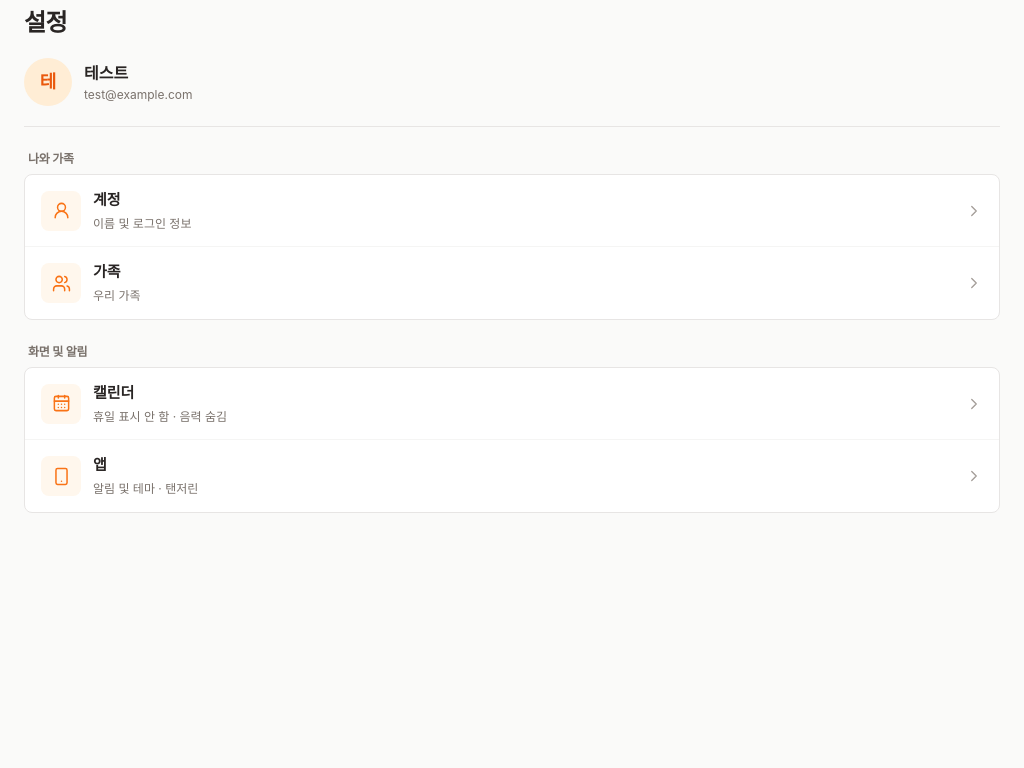
it: SettingsTab 앱 서브뷰 — 알림 › 권한이 denied일 때 차단 안내 메시지가 표시된다
This screenshot has width=1024, height=768.
Click the button "앱 알림 및 테마 · 탠저린" at [61, 476], box [25,440,999,512]
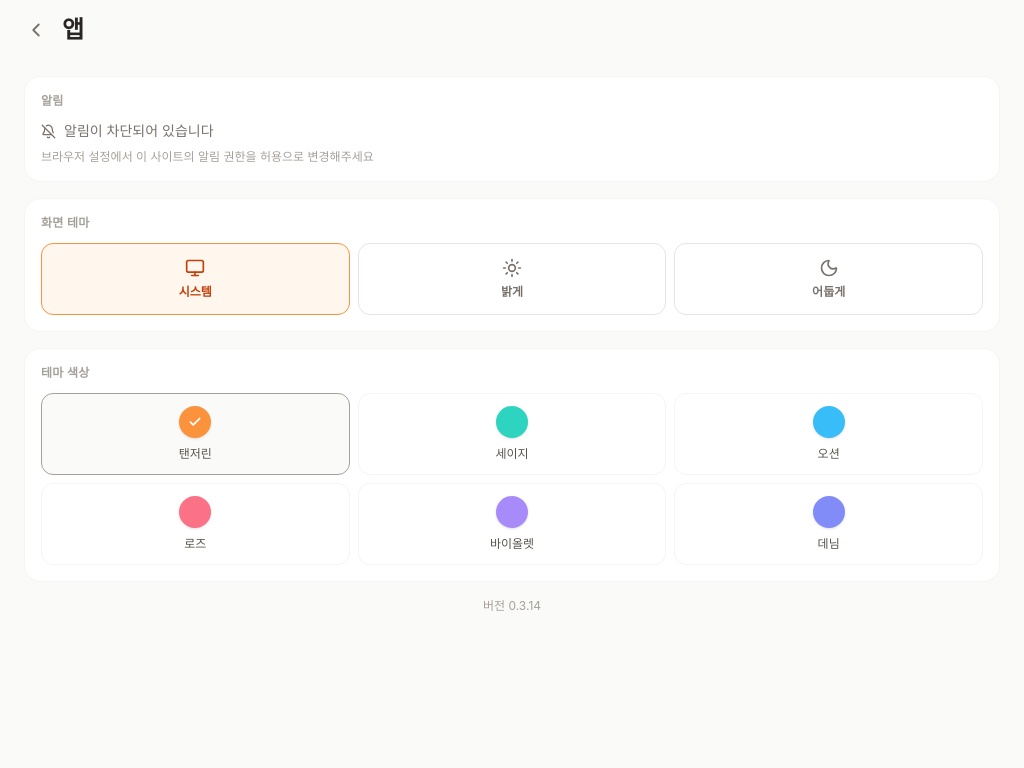
expect the text "알림이 차단되어 있습니다" is shown: met, box [41,122,214,139]
